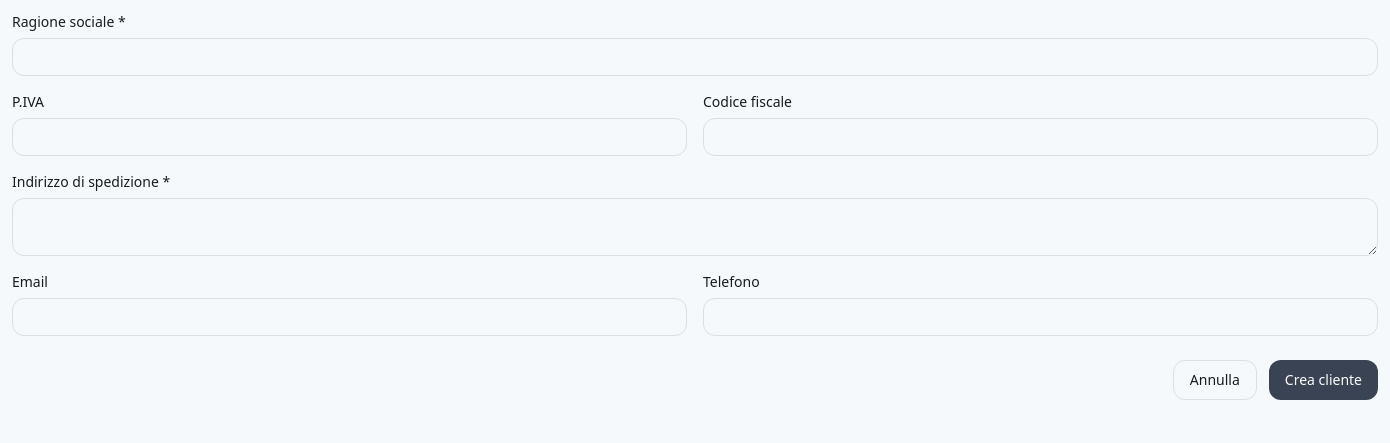
Test: CustomerForm › blocca l'invio e mostra l'errore se manca la ragione sociale
Step 1. Type "Via Roma 1" into the text box labelled "Indirizzo di spedizione *" → (695, 227), box [12, 198, 1378, 256]
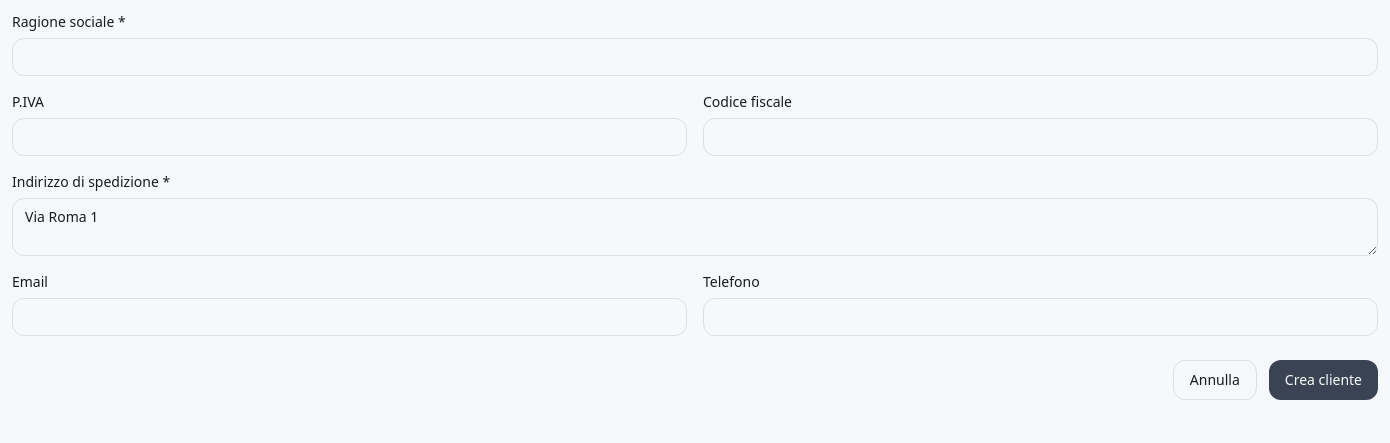
Step 2. Click the button "Crea cliente" → (1323, 380), box [1269, 360, 1378, 400]
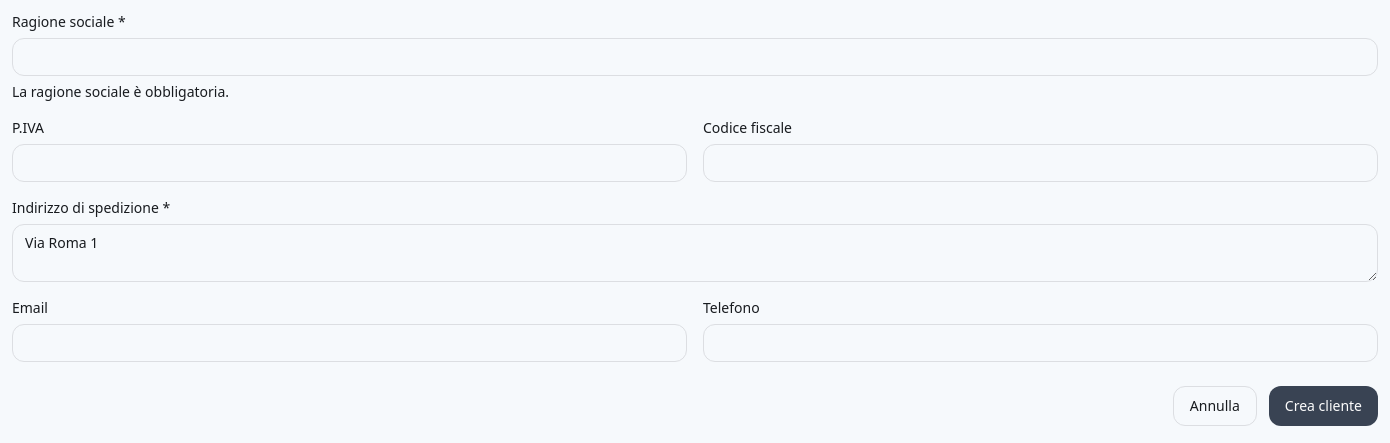
Now the text "La ragione sociale è obbligatoria." is shown, box [12, 82, 229, 101]
